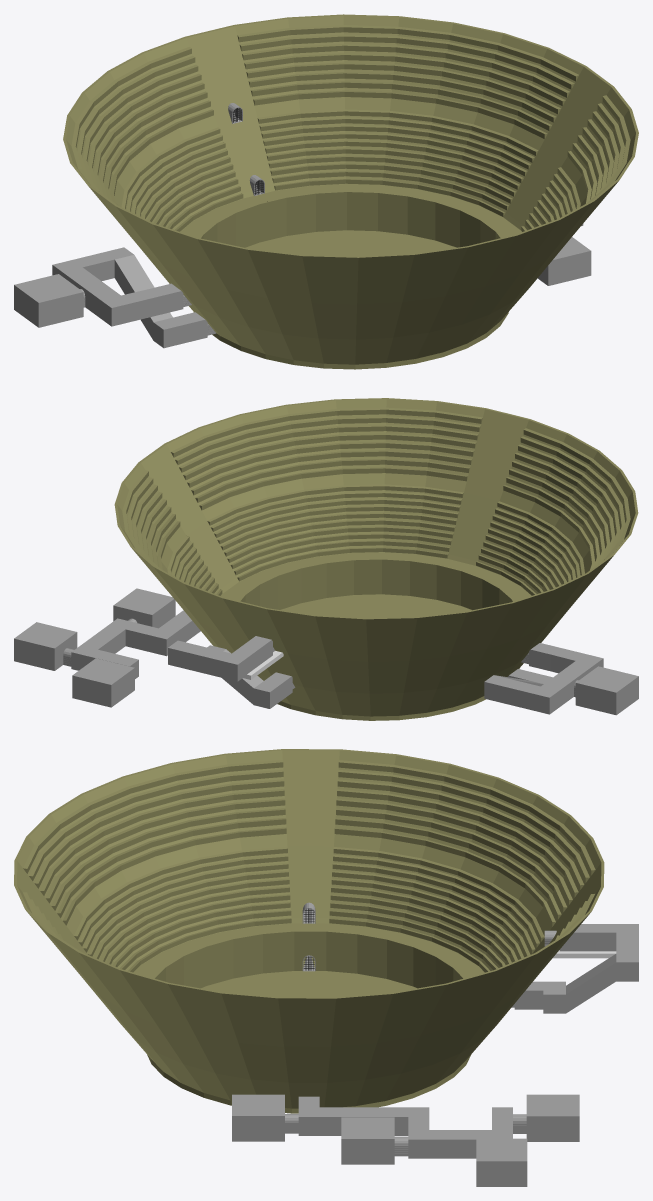
The model's file is Arena_01.fbx.
The picture shows the model from 3 angles, top to bottom: view 1: azimuth 30°, elevation 25°; view 2: azimuth 150°, elevation 25°; view 3: azimuth 270°, elevation 25°; orthographic projection. The views are drawn at different scales.
Visible parts, largest first — view 1: Arena; view 2: Arena, Platform; view 3: Arena, Platform.
Part boxes in pixels (x1,y1,x2,y2): Arena: (14,14,638,369); Arena: (14,398,638,720); Platform: (284,594,468,618); Arena: (14,749,638,1186); Platform: (203,971,415,997).
Bounding box in the file's own units: 12846 × 3433 × 11397.
